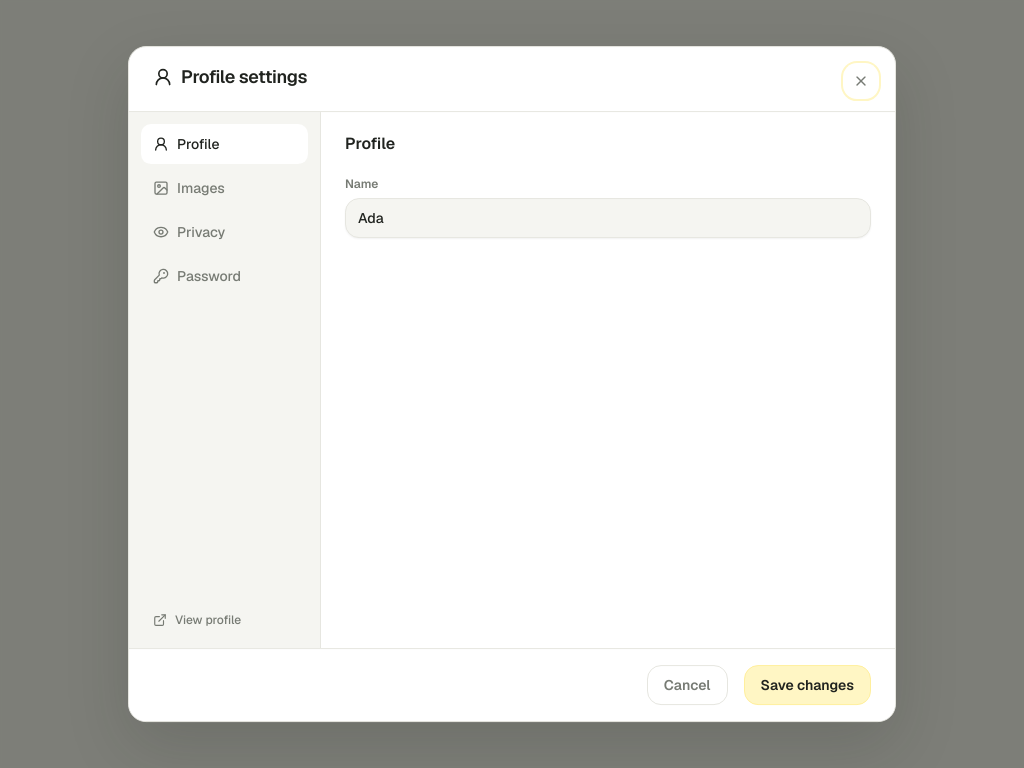
Test: ProfileSettingsModal › uses the shared tab switch for profile visibility
The image size is (1024, 768).
Click the button "Privacy" at point(224, 232), box [141,212,308,252]
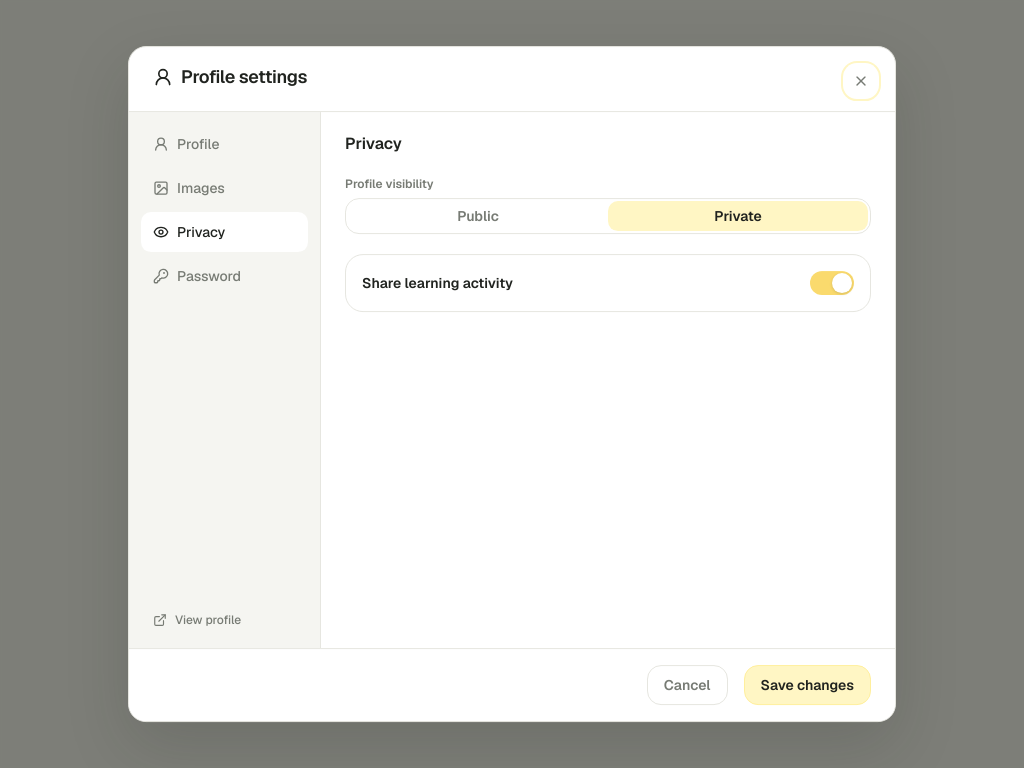
expect the element named "Profile visibility" is shown: met, box [345,198,871,234]
